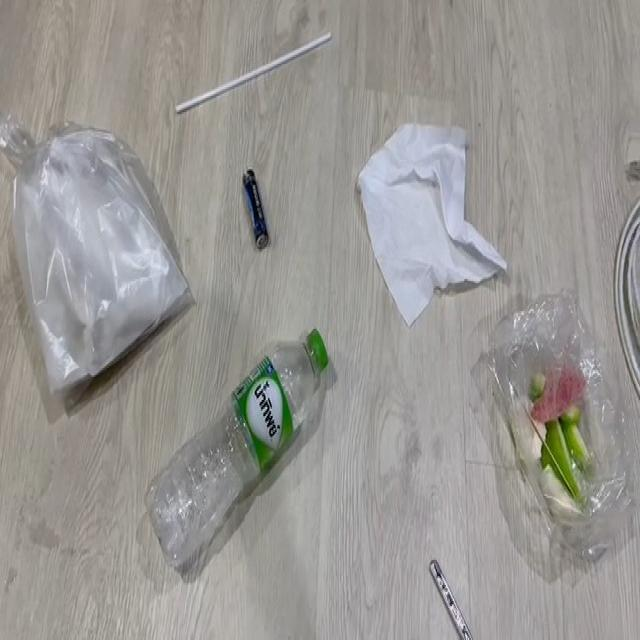Anorganik: (10, 113, 179, 370), (168, 348, 366, 548), (362, 100, 500, 324), (181, 38, 342, 104), (426, 546, 488, 640)
B3: (486, 316, 631, 555), (607, 194, 640, 398), (240, 156, 274, 261)
